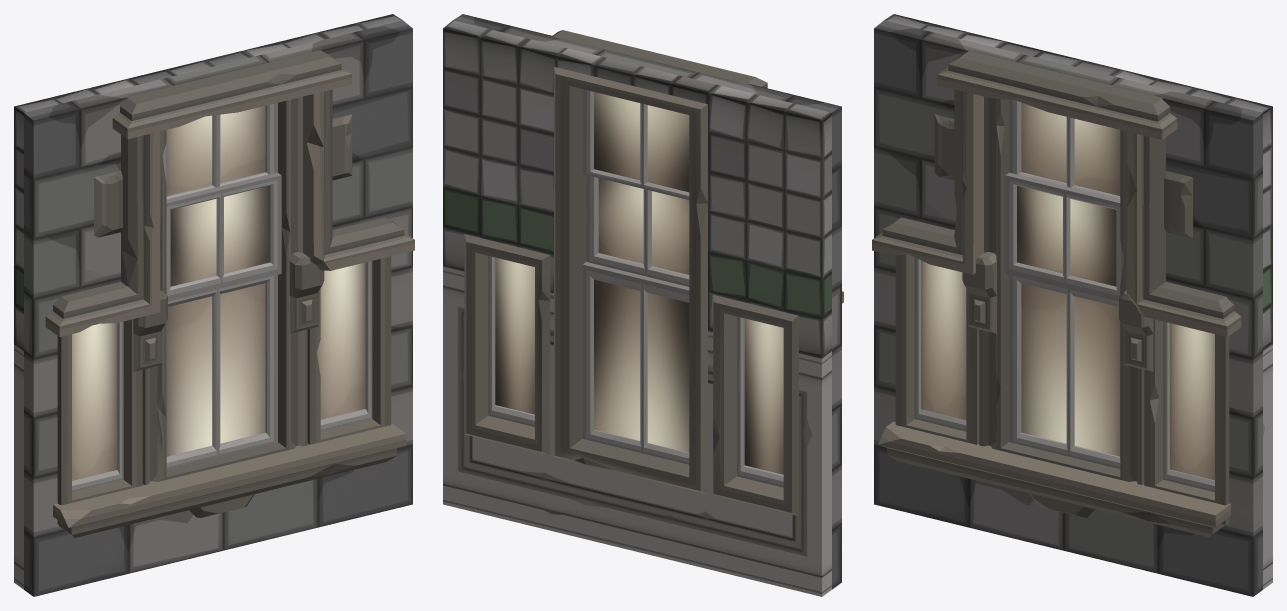
Rendered from SM_Bld_Wall_Window_Tall_05.fbx.
3 renders of one model, left to right at view 1: azimuth 30°, elevation 25°; view 2: azimuth 150°, elevation 25°; view 3: azimuth 330°, elevation 25°, orthographic.
Visible parts, largest first — view 1: SM_Bld_Wall_Window_Tall_05, SM_Bld_Wall_Window_Tall_05_Glass; view 2: SM_Bld_Wall_Window_Tall_05, SM_Bld_Wall_Window_Tall_05_Glass; view 3: SM_Bld_Wall_Window_Tall_05, SM_Bld_Wall_Window_Tall_05_Glass.
Part boxes in pixels (x1,y1,x2,y2): SM_Bld_Wall_Window_Tall_05: [14, 14, 414, 596]; SM_Bld_Wall_Window_Tall_05_Glass: [72, 105, 365, 480]; SM_Bld_Wall_Window_Tall_05: [443, 14, 843, 596]; SM_Bld_Wall_Window_Tall_05_Glass: [495, 92, 783, 474]; SM_Bld_Wall_Window_Tall_05: [872, 14, 1272, 596]; SM_Bld_Wall_Window_Tall_05_Glass: [921, 102, 1214, 480].
Bounding box in the file's own units: 250 × 301 × 45.56.
